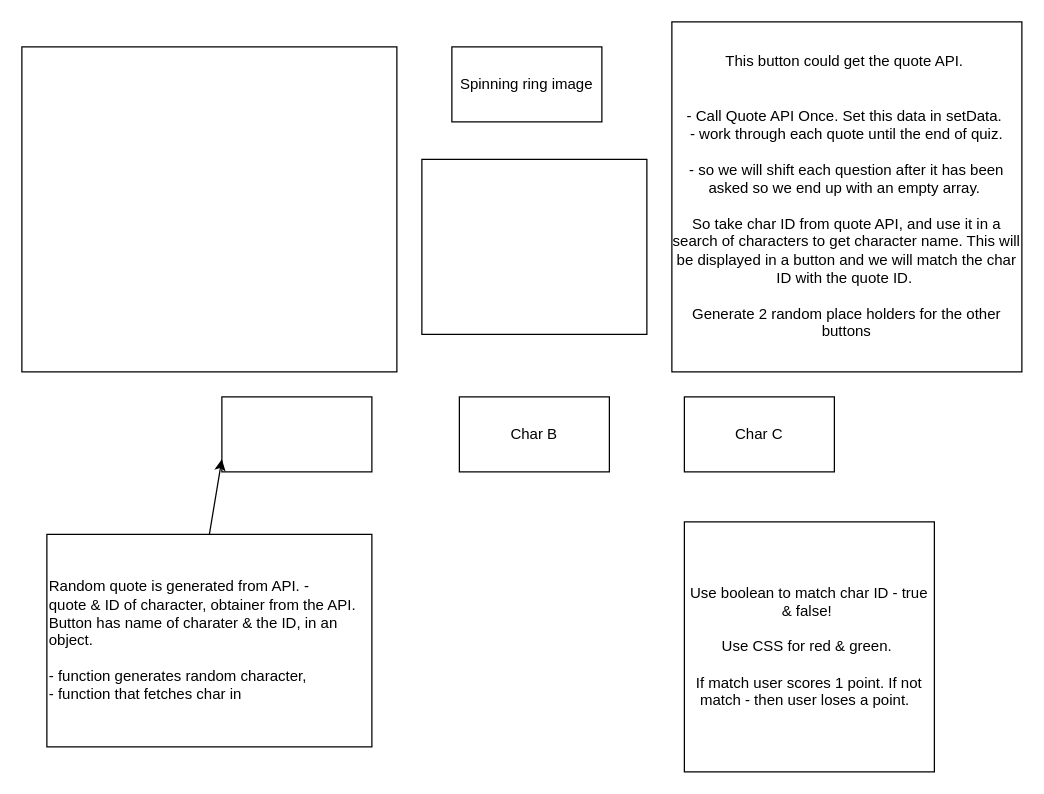
Image size: 1044x794. Some labels were removed from this diagram. Each missing label, with the centre of its shape:
"Char A" goes at point (296, 434).
"Random Quote" goes at point (534, 246).
